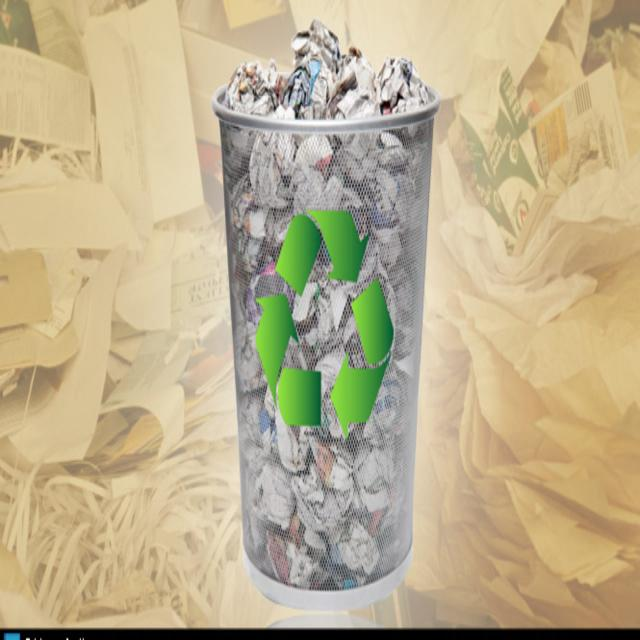Paper -Biodegradable-: (216, 24, 432, 603)
